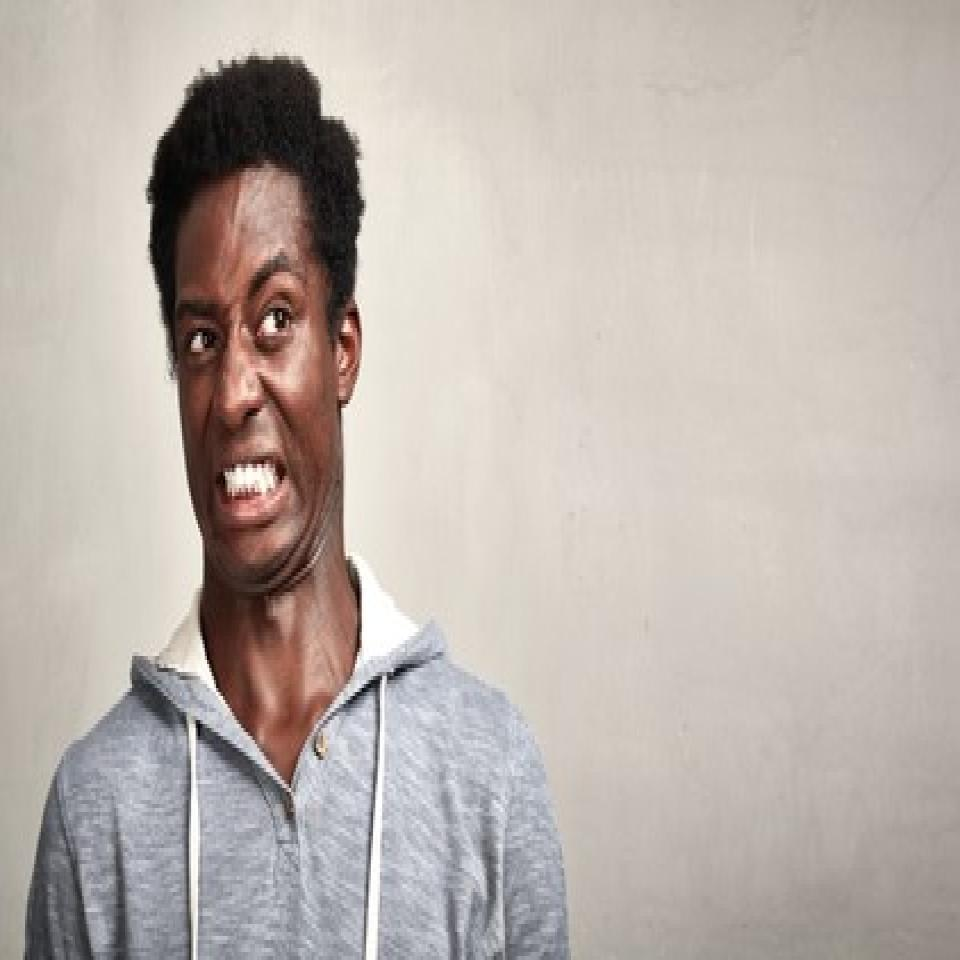Disgust: (174, 168, 338, 599)
